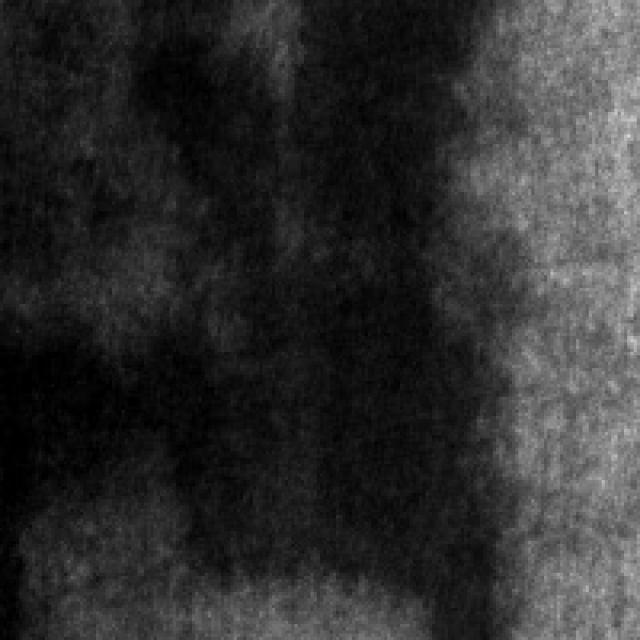patches: (128, 220, 518, 602), (292, 0, 470, 250), (0, 288, 147, 534), (102, 19, 266, 237)
